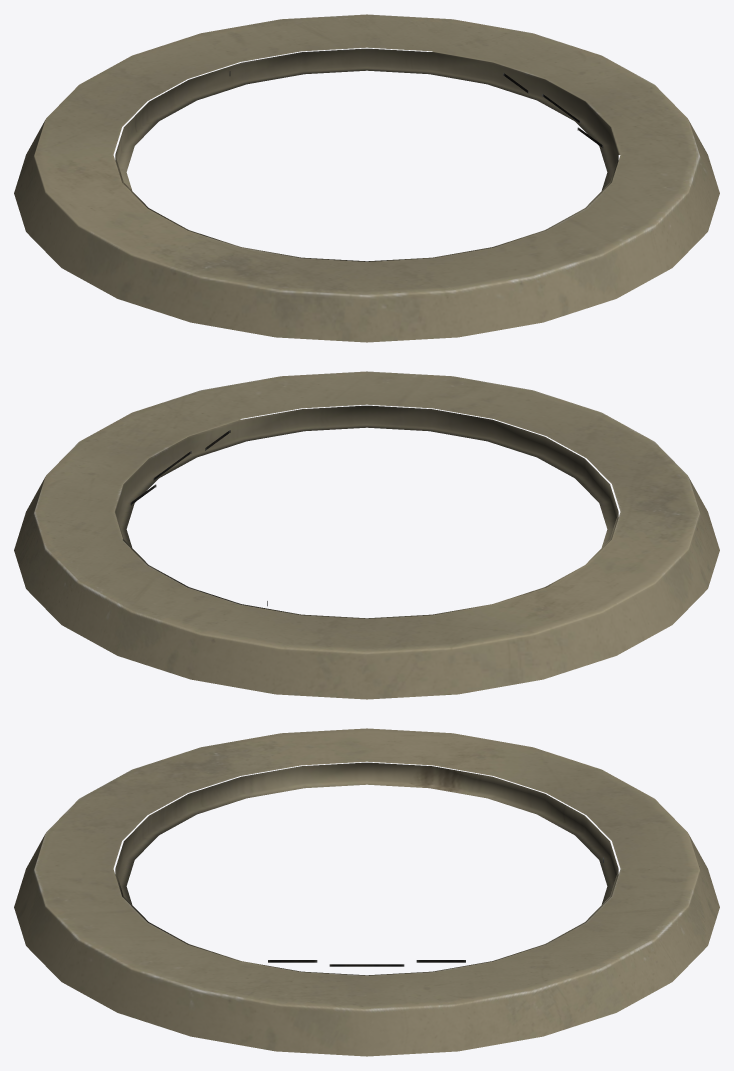
File: TurrellBottom.fbx
The picture shows the model from 3 angles, top to bottom: view 1: azimuth 30°, elevation 25°; view 2: azimuth 150°, elevation 25°; view 3: azimuth 270°, elevation 25°; orthographic projection.
Parts seen in each view (by area): view 1: Sci_Fi_AA_Turret_.001; view 2: Sci_Fi_AA_Turret_.001; view 3: Sci_Fi_AA_Turret_.001.
Part boxes in pixels (x1,y1,x2,y2): Sci_Fi_AA_Turret_.001: (14,14,719,342); Sci_Fi_AA_Turret_.001: (14,371,719,699); Sci_Fi_AA_Turret_.001: (14,728,719,1056).
Size of the model in its own units: 274 by 17.34 by 274.
